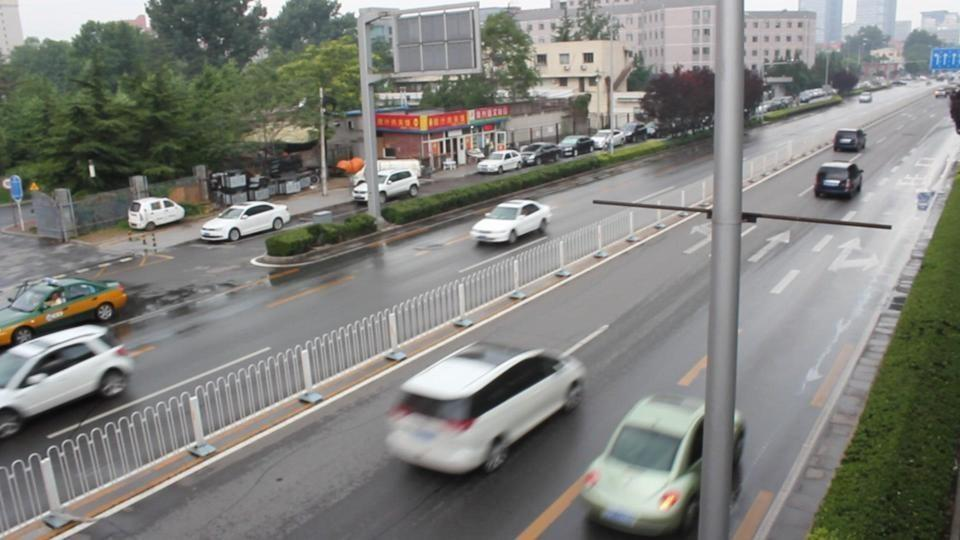car: (387, 342, 586, 476), (578, 389, 748, 537), (0, 326, 134, 440), (0, 275, 129, 347), (199, 201, 291, 243), (470, 199, 553, 245), (351, 166, 421, 203), (128, 196, 186, 230), (813, 161, 864, 199), (476, 150, 524, 175), (518, 143, 563, 167), (556, 135, 600, 158), (833, 127, 868, 155), (796, 85, 841, 105), (615, 122, 652, 146), (859, 93, 871, 103)
